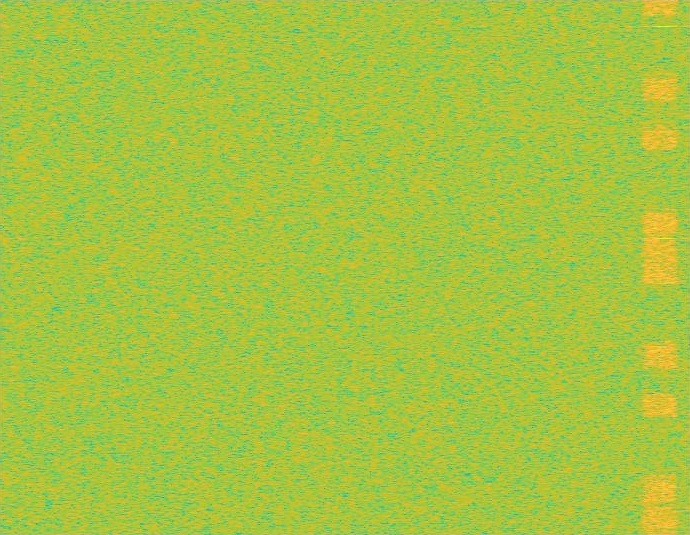LTE: (643, 0, 677, 534)
Radar: (658, 0, 672, 534)
